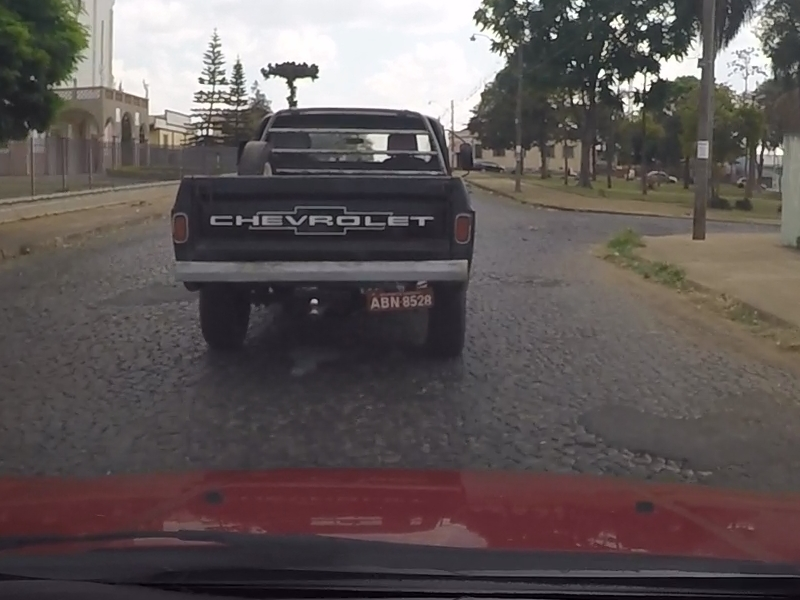placa: (366, 288, 434, 313)
